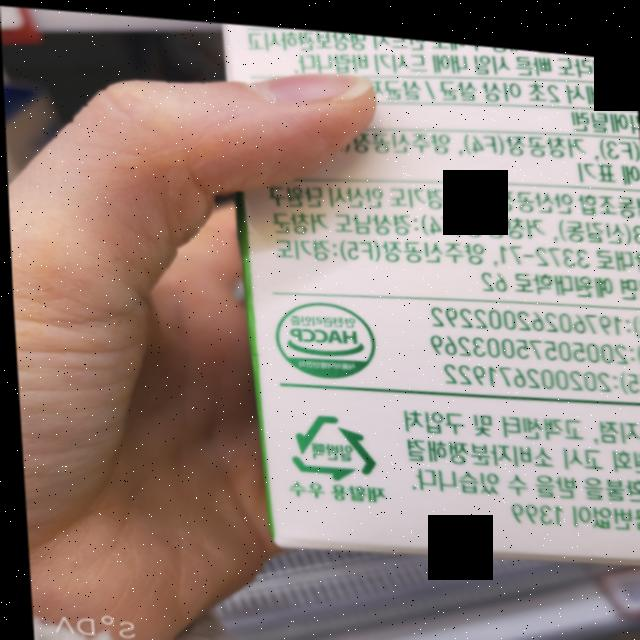NormalPack: (283, 403, 375, 480)
